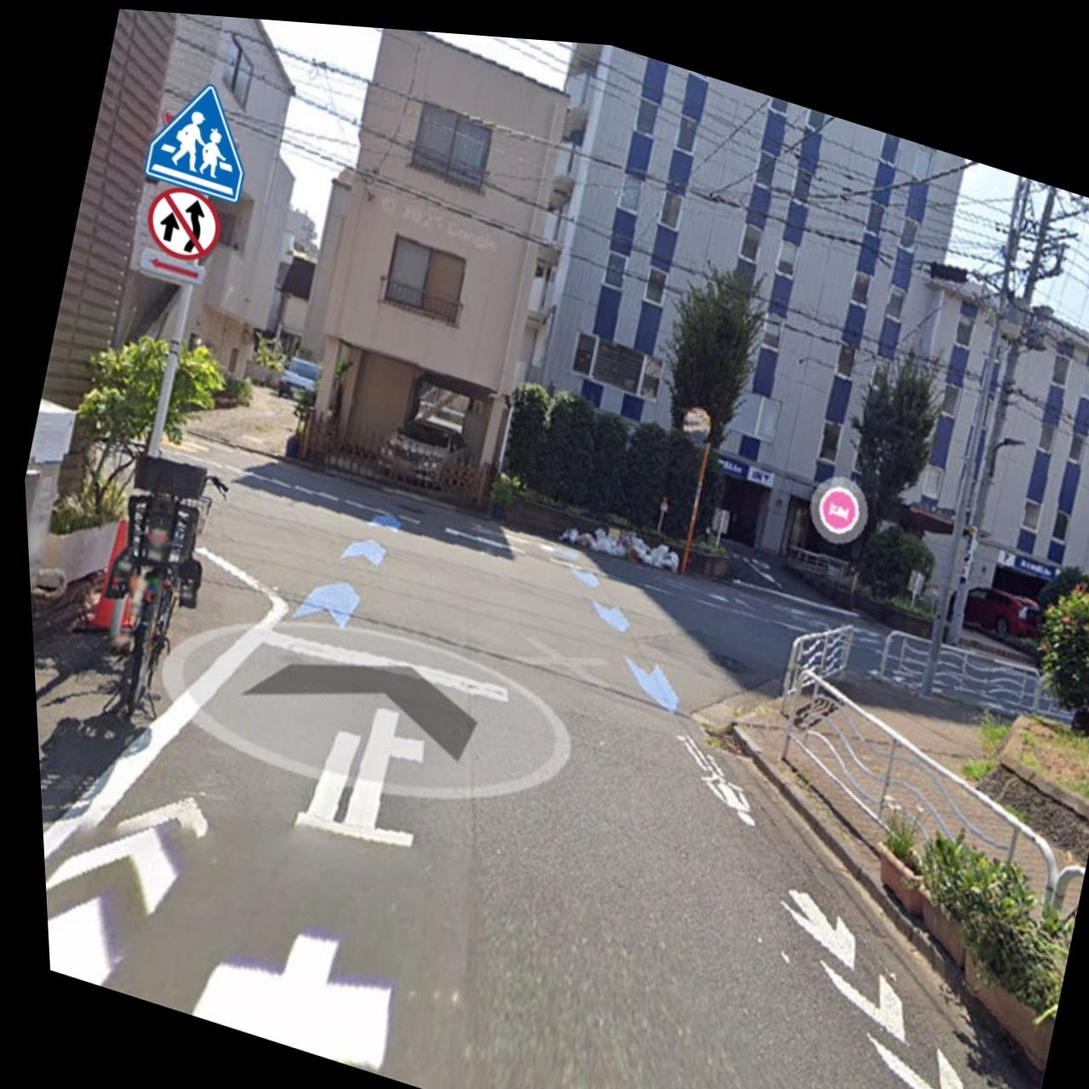cone: (78, 56, 223, 229)
